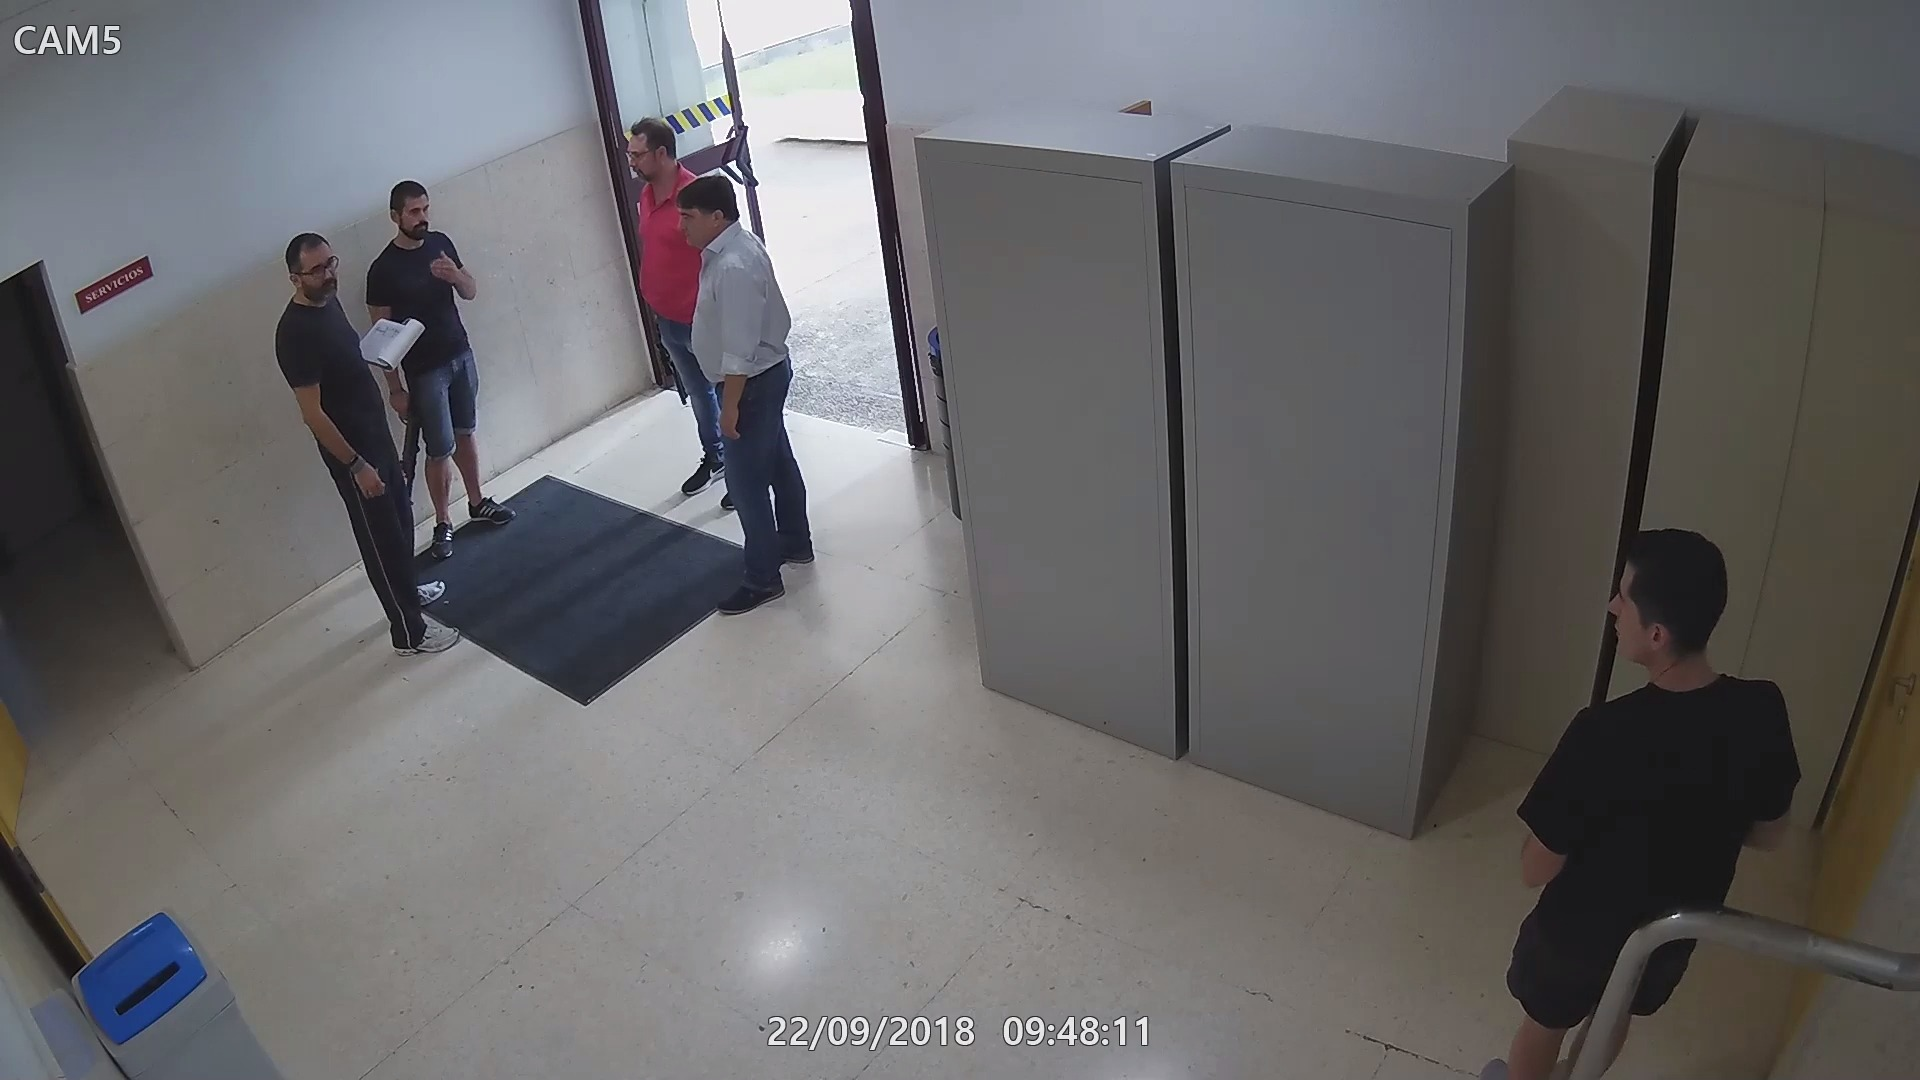Short_rifle: (390, 376, 433, 504), (650, 320, 698, 400)
